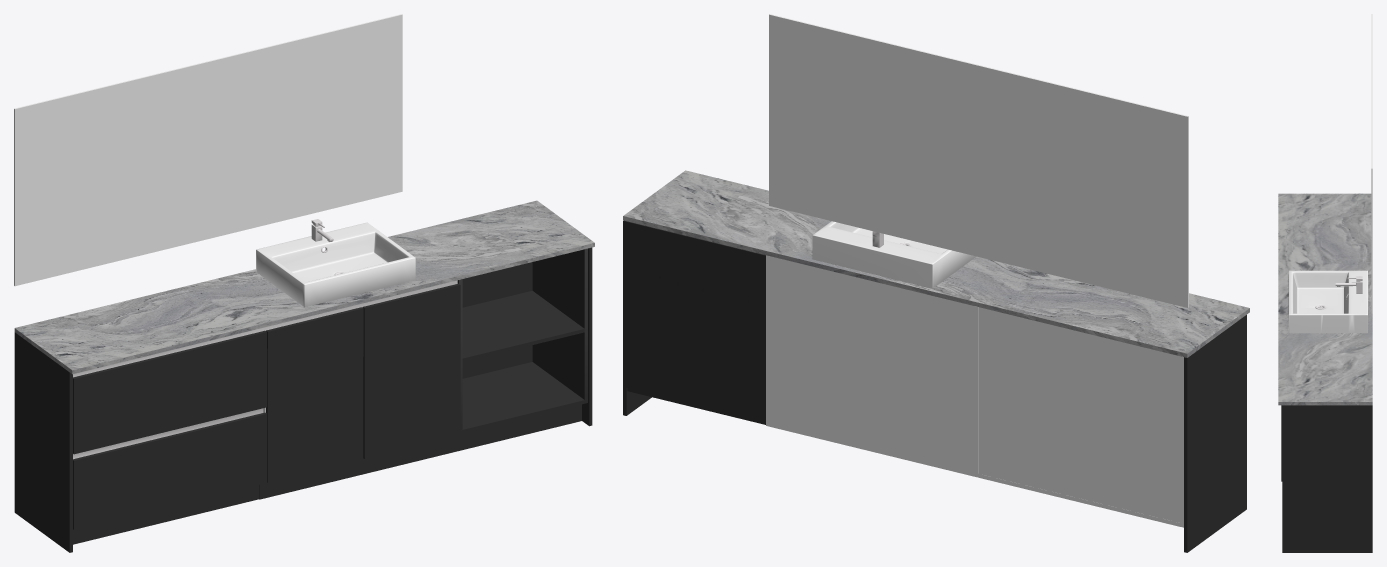
The model's file is ERICA-final.glb.
3 renders of one model, left to right at view 1: azimuth 30°, elevation 25°; view 2: azimuth 150°, elevation 25°; view 3: azimuth 270°, elevation 25°, orthographic. The views are drawn at different scales.
Parts seen in each view (by area): view 1: ERICA; view 2: ERICA; view 3: ERICA.
Boxes of the visible parts, left/top/right/bottom form: ERICA: left=14, top=14, right=594, bottom=552; ERICA: left=623, top=14, right=1249, bottom=552; ERICA: left=1278, top=14, right=1372, bottom=552.
Size of the model in its own units: 2.43 by 1.8 by 0.466.
7 materials, 2 textured.
